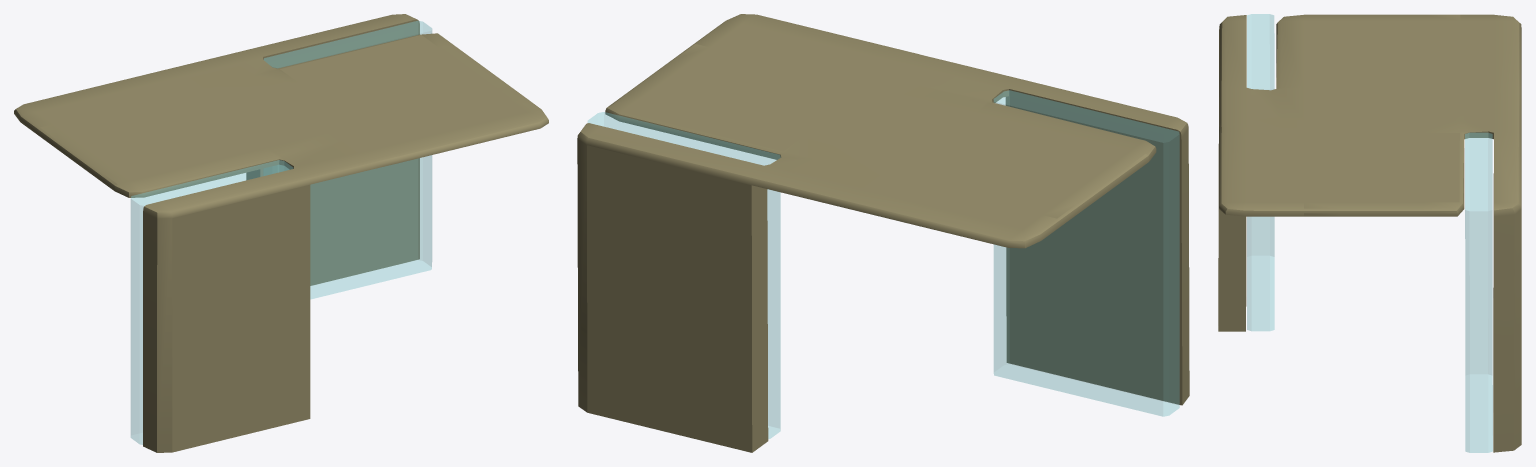
Rendered from 036 - scrivania.FBX.
3 renders of one model, left to right at view 1: azimuth 30°, elevation 25°; view 2: azimuth 150°, elevation 25°; view 3: azimuth 270°, elevation 25°, orthographic. The views are drawn at different scales.
Visible parts, largest first — view 1: Object001, Object002; view 2: Object001, Object002; view 3: Object001, Object002.
Part boxes in pixels (box(x1,y1,x2,y2)): Object001: box(14, 14, 548, 452); Object002: box(131, 21, 431, 444); Object001: box(577, 14, 1189, 452); Object002: box(588, 90, 1179, 438); Object001: box(1218, 14, 1521, 452); Object002: box(1247, 14, 1492, 452).
Size of the model in its own units: 195 by 112 by 126.
